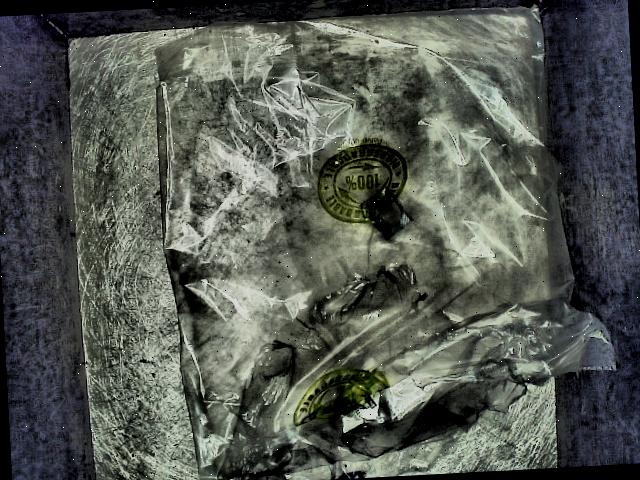Plastic: (133, 1, 611, 480)
